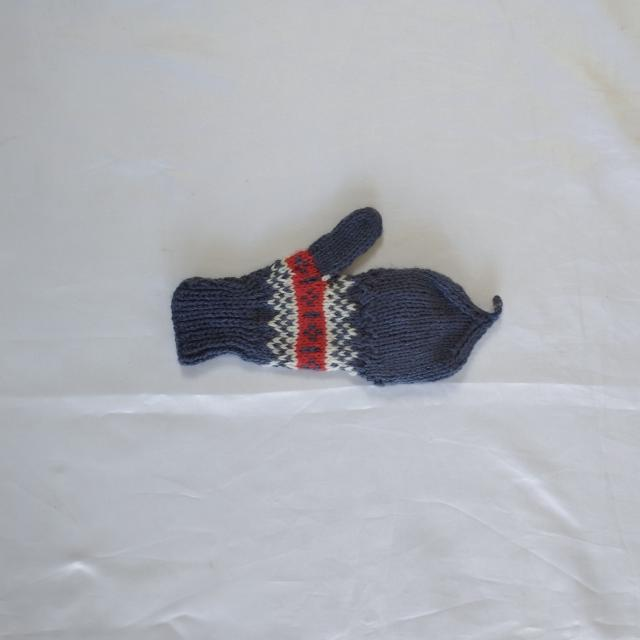Guante: (170, 205, 504, 388)
